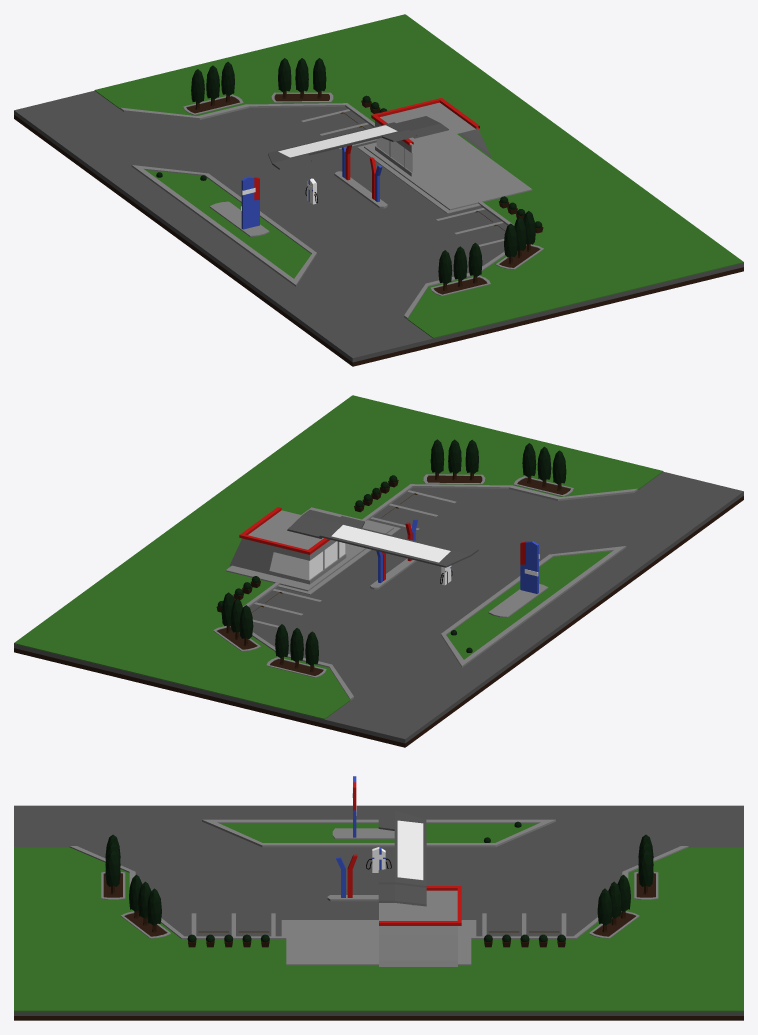
File: Fuel-Charging Station.fbx
3 renders of one model, top to bottom at view 1: azimuth 30°, elevation 25°; view 2: azimuth 150°, elevation 25°; view 3: azimuth 270°, elevation 25°, orthographic. The views are drawn at different scales.
Visible parts, largest first — view 1: meshes[4]-0, meshes[0]-1, Cube.001, meshes[4]-1, meshes[0]-0, meshes[2]-0, meshes[2]-5, meshes[14]-2, meshes[15]-2, meshes[16]-2, meshes[2]-3, meshes[17]-3 (+4 smaller); view 2: meshes[4]-0, meshes[0]-1, meshes[4]-1, meshes[0]-0, meshes[2]-0, meshes[2]-5, Cube.001, meshes[2]-3, meshes[2]-1, meshes[14]-2, meshes[17]-3, meshes[15]-2 (+5 smaller); view 3: meshes[4]-0, meshes[0]-1, meshes[4]-1, Cube.001, meshes[2]-0, meshes[0]-0, meshes[2]-5, meshes[2]-3, meshes[16]-2, meshes[17]-3, meshes[2]-2, meshes[14]-2 (+3 smaller).
Part boxes in pixels (x1,y1,x2,y2): meshes[4]-0: [94, 14, 743, 338]; meshes[0]-1: [14, 90, 743, 362]; Cube.001: [357, 134, 532, 213]; meshes[4]-1: [120, 103, 514, 319]; meshes[0]-0: [14, 115, 743, 366]; meshes[2]-0: [375, 102, 491, 176]; meshes[2]-5: [268, 116, 448, 169]; meshes[14]-2: [191, 61, 234, 103]; meshes[15]-2: [438, 242, 482, 284]; meshes[16]-2: [278, 58, 326, 91]; meshes[2]-3: [278, 125, 396, 157]; meshes[17]-3: [504, 211, 535, 257]; meshes[4]-0: [14, 395, 663, 719]; meshes[0]-1: [14, 471, 743, 743]; meshes[4]-1: [243, 484, 637, 700]; meshes[0]-0: [14, 496, 743, 747]; meshes[2]-0: [229, 510, 346, 584]; meshes[2]-5: [287, 509, 478, 567]; Cube.001: [225, 507, 400, 594]; meshes[2]-3: [331, 525, 450, 562]; meshes[2]-1: [270, 541, 345, 579]; meshes[14]-2: [275, 624, 318, 665]; meshes[17]-3: [430, 439, 478, 473]; meshes[15]-2: [522, 443, 566, 484]; meshes[4]-0: [14, 823, 743, 1012]; meshes[0]-1: [14, 805, 743, 1015]; meshes[4]-1: [69, 819, 688, 939]; Cube.001: [281, 920, 476, 965]; meshes[2]-0: [379, 890, 457, 966]; meshes[0]-0: [14, 1016, 743, 1020]; meshes[2]-5: [378, 810, 426, 906]; meshes[2]-3: [397, 820, 422, 880]; meshes[16]-2: [597, 874, 630, 925]; meshes[17]-3: [129, 874, 161, 925]; meshes[2]-2: [379, 886, 461, 925]; meshes[14]-2: [638, 834, 653, 886].
Bounding box in the file's own units: 12 × 1.79 × 18.
